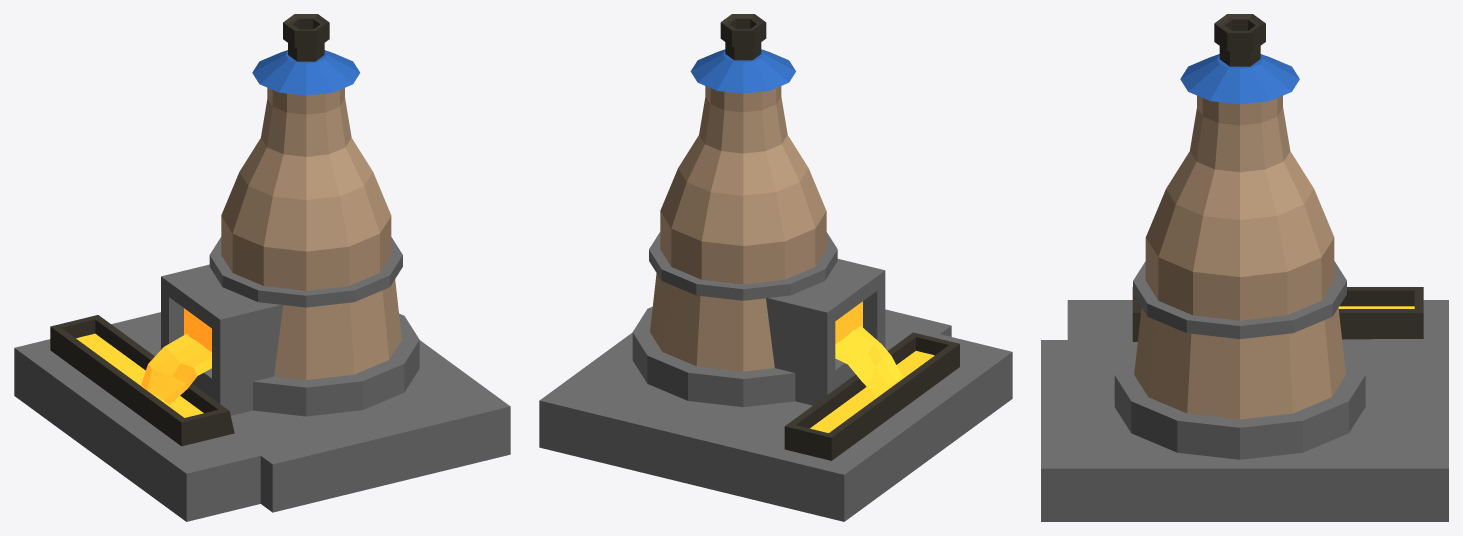
File: Smelter LvL 2.fbx
The picture shows the model from 3 angles, left to right: view 1: azimuth 30°, elevation 25°; view 2: azimuth 150°, elevation 25°; view 3: azimuth 270°, elevation 25°; orthographic projection. The views are drawn at different scales.
Visible parts, largest first — view 1: Cube.002, Team Color Obj.000; view 2: Cube.002, Team Color Obj.000; view 3: Cube.002, Team Color Obj.000.
Boxes of the visible parts, x1=… form: Cube.002: x1=14, y1=14, x2=510, y2=521; Team Color Obj.000: x1=252, y1=50, x2=359, y2=95; Cube.002: x1=539, y1=14, x2=1012, y2=521; Team Color Obj.000: x1=690, y1=49, x2=795, y2=93; Cube.002: x1=1041, y1=14, x2=1448, y2=521; Team Color Obj.000: x1=1180, y1=54, x2=1299, y2=104.
Size of the model in its own units: 133 by 161 by 136.
